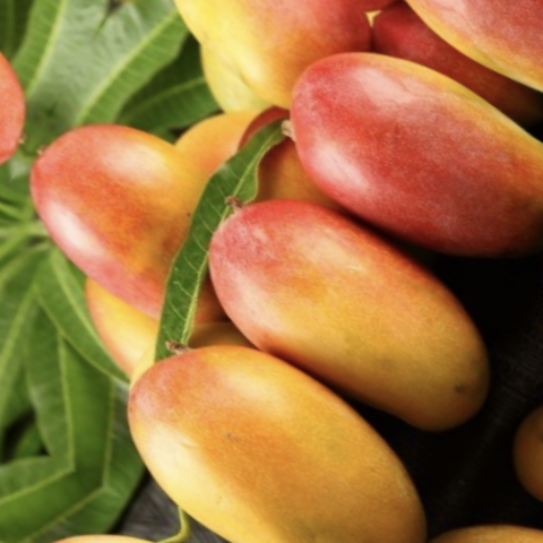mango: (177, 152, 543, 469), (63, 279, 472, 543), (219, 0, 543, 330), (0, 67, 293, 359)
